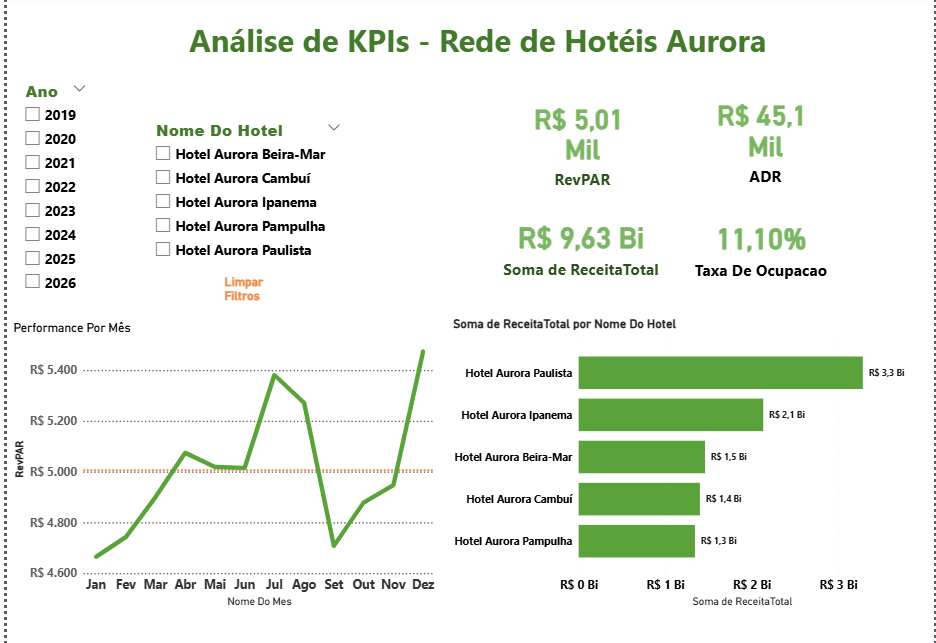

This screenshot's page, from the dashboard's own definition file:
{"tool":"powerbi","page":{"name":"Visão Geral","canvas":[1280,900],"ordinal":0},"visuals":[{"type":"card","fields":{"Values":["Sum(ADReOCUPACAO.ReceitaTotal)"]},"box":[679.2,285.7,225.7,120.1],"z":0},{"type":"card","fields":{"Values":["ADReOCUPACAO.ADR Final"]},"box":[962.8,126.3,167.7,142.9],"z":1000},{"type":"card","fields":{"Values":["ADReOCUPACAO.RevPAR Final"]},"box":[704,126.3,180.1,153.2],"z":2000},{"type":"card","fields":{"Values":["ADReOCUPACAO.Taxa Ocupacao Final"]},"box":[929.7,287.8,221.6,118],"z":3000},{"type":"lineChart","title":"Performance Por Mês","fields":{"Category":["ADReOCUPACAO.NomeMes"],"Y":["ADReOCUPACAO.RevPAR"]},"box":[4.1,449.3,592.2,399.6],"z":4000},{"type":"clusteredBarChart","fields":{"Category":["ADReOCUPACAO.NomeHotel"],"Y":["Sum(ADReOCUPACAO.Receita Total)"]},"box":[610.8,443.1,668.8,405.8],"z":5000},{"type":"slicer","fields":{"Values":["ADReOCUPACAO.Ano"]},"box":[13.3,111.7,108.3,315],"z":6000},{"type":"slicer","fields":{"Values":["ADReOCUPACAO.NomeHotel"]},"box":[192.6,165.6,279.5,207.1],"z":7000},{"type":"actionButton","title":"Limpar Filtros","box":[299.7,384.7,68.3,41.7],"z":8000},{"type":"textbox","box":[246.7,26.7,866.7,73.3],"z":9000}]}

Visuals, with their boxes in screenshot pixels (x1, y1, x2, y2), scaled from the page's 1280x900 canvas onto the 936x643 screenshot:
card - Sum(ADReOCUPACAO.ReceitaTotal): <region>497, 204, 662, 290</region>
card - ADReOCUPACAO.ADR Final: <region>704, 90, 827, 192</region>
card - ADReOCUPACAO.RevPAR Final: <region>515, 90, 646, 200</region>
card - ADReOCUPACAO.Taxa Ocupacao Final: <region>680, 206, 842, 290</region>
"Performance Por Mês" lineChart: <region>3, 321, 436, 606</region>
clusteredBarChart - ADReOCUPACAO.NomeHotel x Sum(ADReOCUPACAO.Receita Total): <region>447, 317, 935, 606</region>
slicer - ADReOCUPACAO.Ano: <region>10, 80, 89, 305</region>
slicer - ADReOCUPACAO.NomeHotel: <region>141, 118, 345, 266</region>
"Limpar Filtros" actionButton: <region>219, 275, 269, 305</region>
textbox: <region>180, 19, 814, 71</region>
